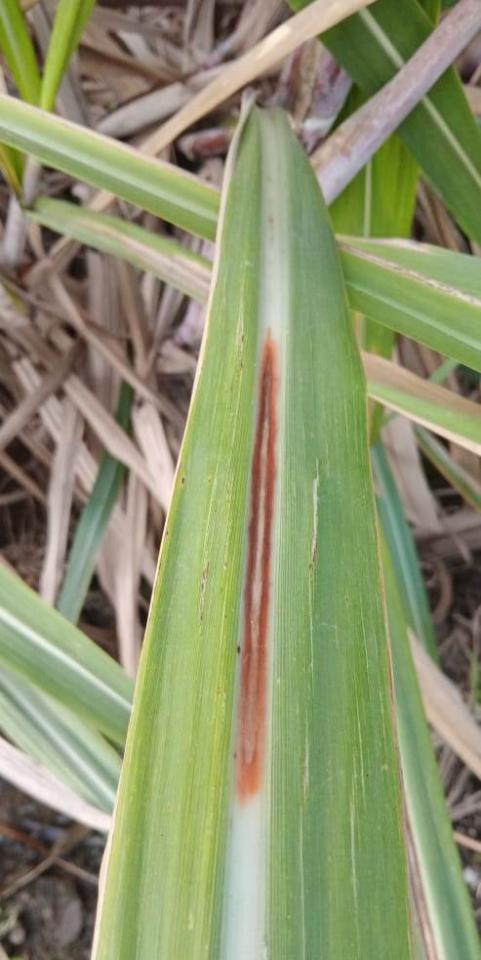RedRot: (235, 324, 279, 808)
